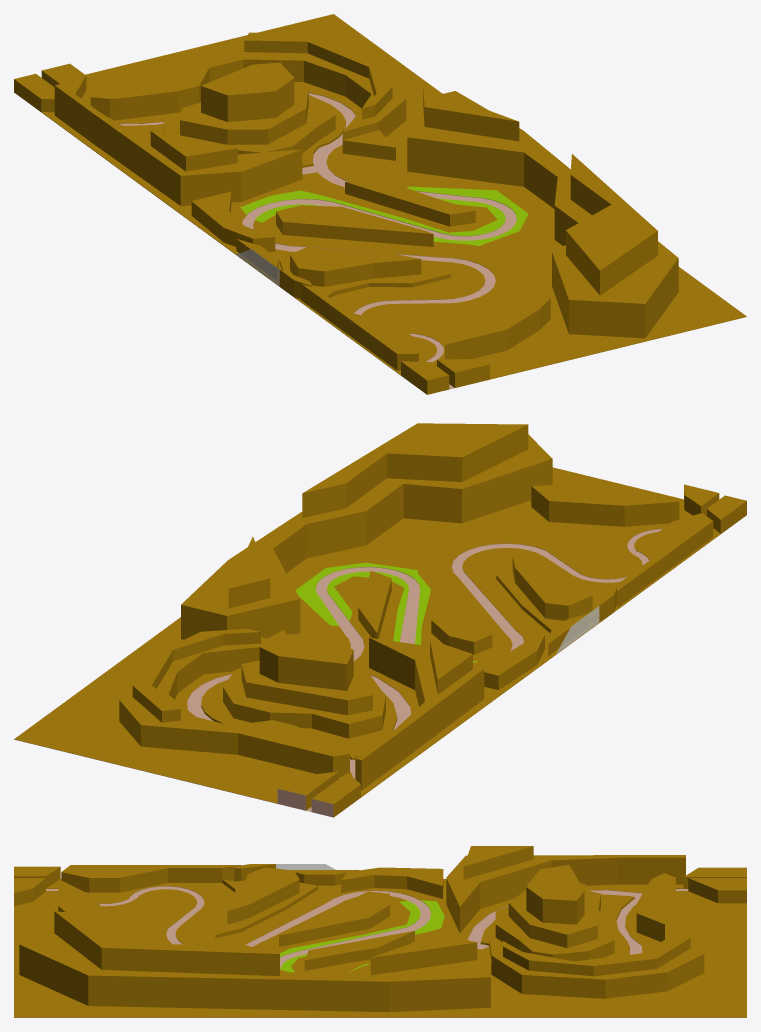
Rendered from map2.gltf.
3 renders of one model, top to bottom at view 1: azimuth 30°, elevation 25°; view 2: azimuth 150°, elevation 25°; view 3: azimuth 270°, elevation 25°, orthographic. The views are drawn at different scales.
Visible parts, largest first — view 1: Node289, Node374, Node276, Node2, Node236, Node397, Node280, Node362, Node286, Node414, Node359, Node421 (+44 smaller); view 2: Node289, Node374, Node276, Node2, Node236, Node397, Node285, Node362, Node359, Node241, Node325, Node282 (+40 smaller); view 3: Node289, Node288, Node374, Node276, Node399, Node2, Node236, Node397, Node277, Node287, Node394, Node208 (+59 smaller).
Boxes of the visible parts, x1=… form: Node289: x1=81, y1=14, x2=746, y2=378; Node374: x1=42, y1=112, x2=497, y2=374; Node276: x1=407, y1=91, x2=677, y2=303; Node2: x1=119, y1=93, x2=516, y2=389; Node236: x1=91, y1=40, x2=405, y2=131; Node397: x1=566, y1=154, x2=657, y2=270; Node280: x1=407, y1=137, x2=523, y2=186; Node362: x1=93, y1=114, x2=180, y2=205; Node286: x1=569, y1=300, x2=645, y2=338; Node414: x1=276, y1=205, x2=432, y2=233; Node359: x1=55, y1=84, x2=301, y2=175; Node421: x1=282, y1=222, x2=433, y2=246; Node289: x1=14, y1=467, x2=692, y2=803; Node374: x1=334, y1=528, x2=720, y2=796; Node276: x1=181, y1=434, x2=551, y2=615; Node2: x1=187, y1=529, x2=661, y2=811; Node236: x1=119, y1=637, x2=349, y2=756; Node397: x1=303, y1=423, x2=527, y2=492; Node285: x1=462, y1=458, x2=552, y2=523; Node362: x1=400, y1=669, x2=484, y2=761; Node359: x1=356, y1=637, x2=483, y2=760; Node241: x1=141, y1=725, x2=237, y2=754; Node325: x1=201, y1=680, x2=397, y2=758; Node282: x1=306, y1=511, x2=366, y2=558; Node289: x1=14, y1=889, x2=746, y2=1017; Node288: x1=88, y1=975, x2=388, y2=1012; Node374: x1=46, y1=879, x2=683, y2=972; Node276: x1=19, y1=925, x2=490, y2=981; Node399: x1=101, y1=948, x2=279, y2=976; Node2: x1=46, y1=886, x2=688, y2=969; Node236: x1=489, y1=873, x2=703, y2=979; Node397: x1=55, y1=911, x2=278, y2=953; Node277: x1=389, y1=977, x2=490, y2=1012; Node287: x1=19, y1=944, x2=88, y2=1005; Node394: x1=370, y1=942, x2=477, y2=975; Node208: x1=495, y1=890, x2=614, y2=954.
Size of the model in its own units: 3617 by 645 by 8097.
